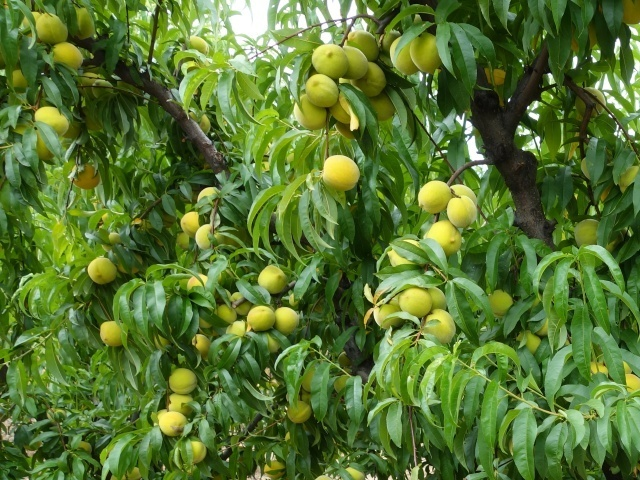peach: (318, 153, 364, 193), (290, 90, 330, 134), (44, 35, 90, 73), (307, 43, 350, 82), (407, 32, 443, 76), (422, 307, 461, 346), (31, 10, 71, 48), (572, 81, 610, 121), (396, 284, 435, 321), (414, 179, 454, 215), (424, 219, 465, 254), (30, 105, 74, 137), (388, 34, 419, 79), (305, 72, 341, 108), (445, 195, 480, 231), (365, 89, 399, 126), (80, 253, 118, 286), (96, 318, 131, 353), (165, 365, 201, 399), (570, 216, 607, 249), (253, 263, 293, 293), (69, 160, 103, 193), (484, 288, 518, 321), (346, 26, 381, 58), (152, 410, 189, 440), (337, 44, 370, 77), (243, 304, 276, 336), (372, 298, 404, 331), (68, 6, 101, 38), (319, 100, 355, 129), (360, 61, 390, 95), (269, 304, 304, 333), (32, 129, 61, 164), (162, 389, 199, 415), (425, 282, 457, 312), (446, 177, 480, 205), (284, 398, 314, 428), (181, 269, 214, 296), (179, 209, 209, 238), (369, 25, 400, 53), (224, 318, 253, 346), (87, 77, 119, 102), (191, 222, 217, 252), (190, 184, 220, 210), (520, 327, 545, 357), (112, 253, 143, 277), (189, 331, 215, 358), (182, 32, 211, 56), (529, 317, 552, 344), (213, 304, 239, 327), (263, 458, 291, 479), (186, 438, 208, 464), (228, 293, 252, 311)
